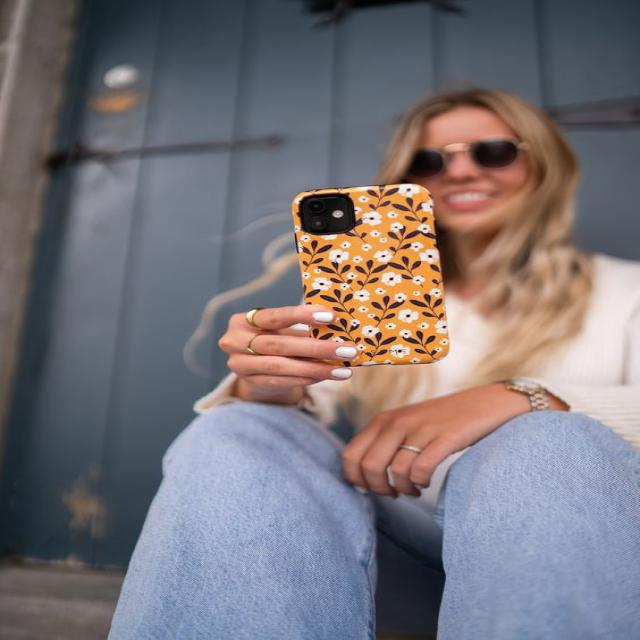Smartphone: (280, 176, 461, 375)
